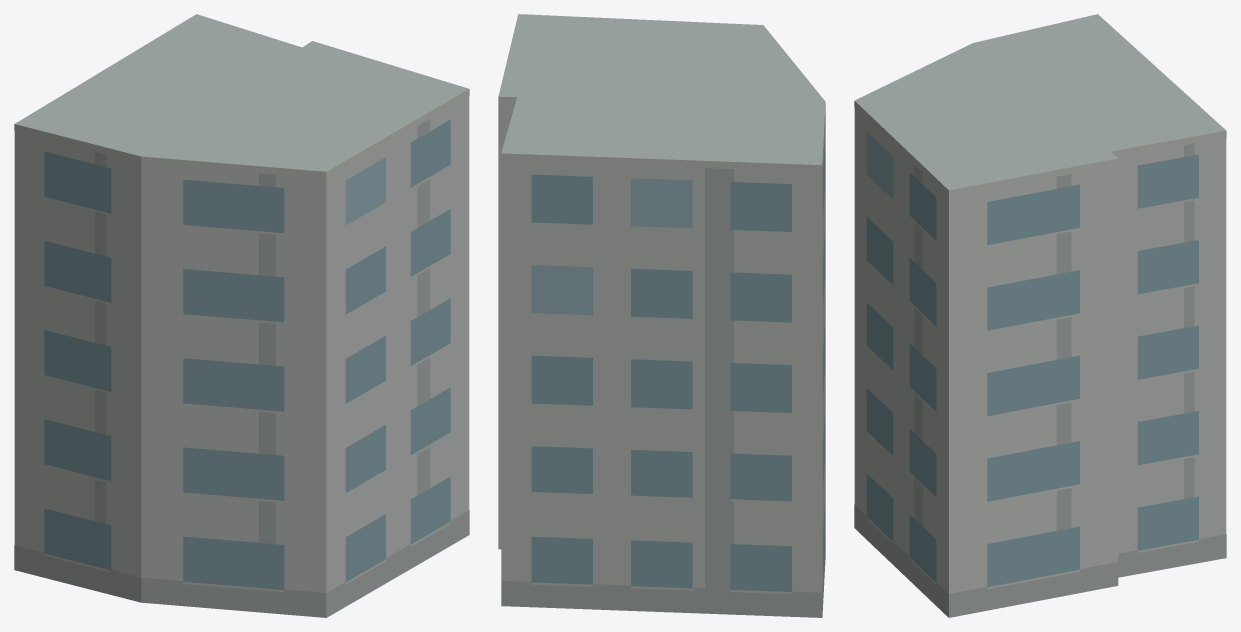
File: survey-upis-32800213.glb
3 renders of one model, left to right at view 1: azimuth 30°, elevation 25°; view 2: azimuth 150°, elevation 25°; view 3: azimuth 270°, elevation 25°, orthographic. The views are drawn at different scales.
Visible parts, largest first — view 1: survey-upis-32800213.tmp; view 2: survey-upis-32800213.tmp; view 3: survey-upis-32800213.tmp.
Boxes of the visible parts, x1,y1,x2,y2 form: survey-upis-32800213.tmp: (14, 14, 469, 617); survey-upis-32800213.tmp: (498, 14, 825, 617); survey-upis-32800213.tmp: (854, 14, 1226, 617).
Size of the model in its own units: 13.51 by 15.25 by 12.04.
